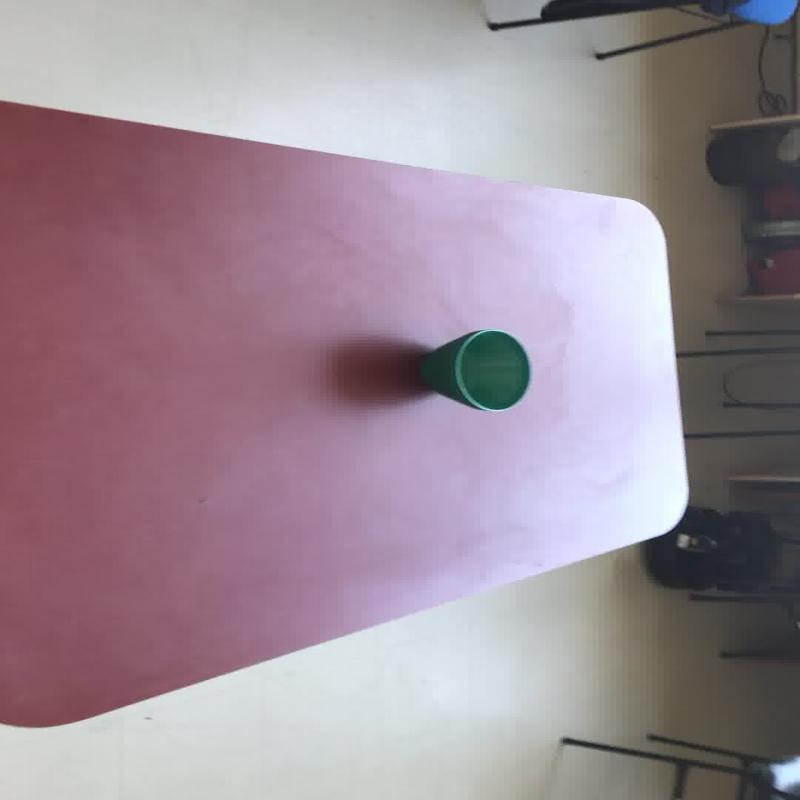bowl: (417, 327, 531, 412)
